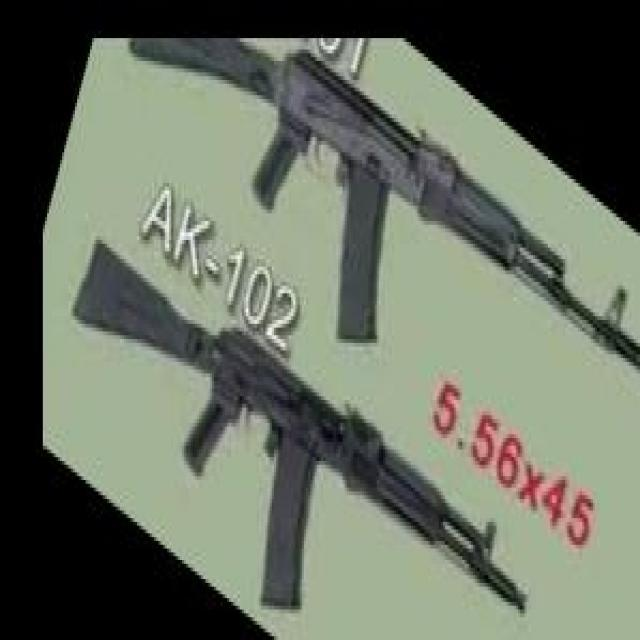weapon: (69, 238, 530, 618), (130, 39, 640, 371)
